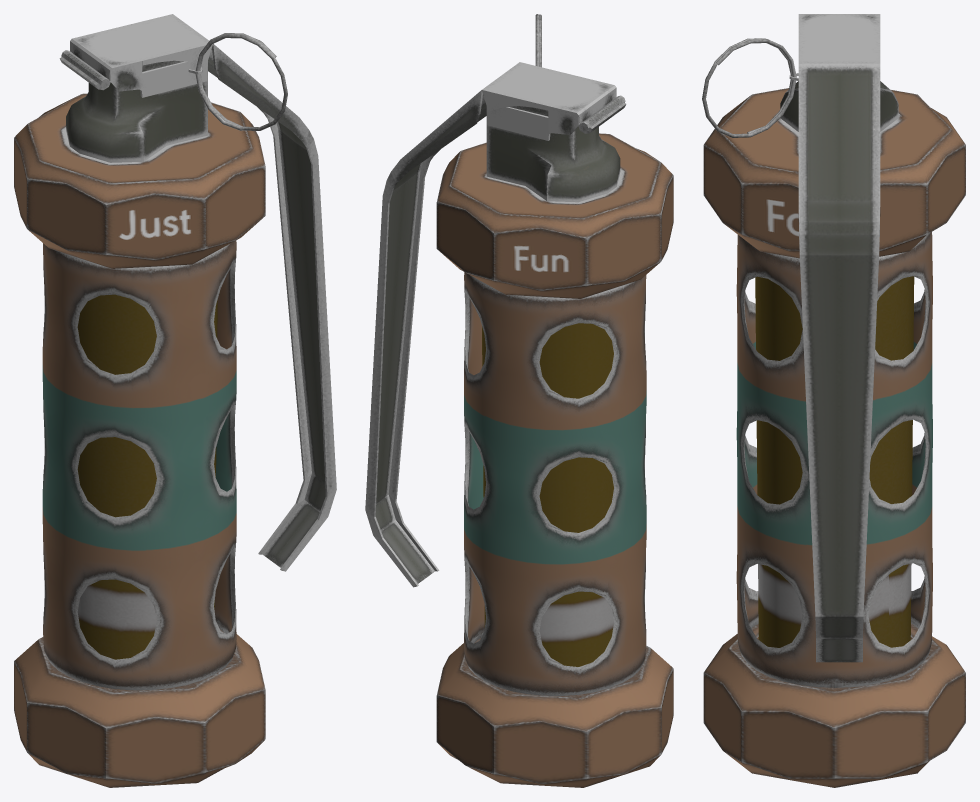
File: counter_strike_grenades_cs_go.glb
3 renders of one model, left to right at view 1: azimuth 30°, elevation 25°; view 2: azimuth 150°, elevation 25°; view 3: azimuth 270°, elevation 25°, orthographic. The views are drawn at different scales.
Visible parts, largest first — view 1: Flashbang; view 2: Flashbang; view 3: Flashbang.
Part boxes in pixels (x1,y1,x2,y2): Flashbang: [14, 14, 336, 787]; Flashbang: [365, 14, 673, 787]; Flashbang: [702, 14, 965, 787].
Bounding box in the file's own units: 1.33 × 3.06 × 1.01.
1 material, 1 textured.
